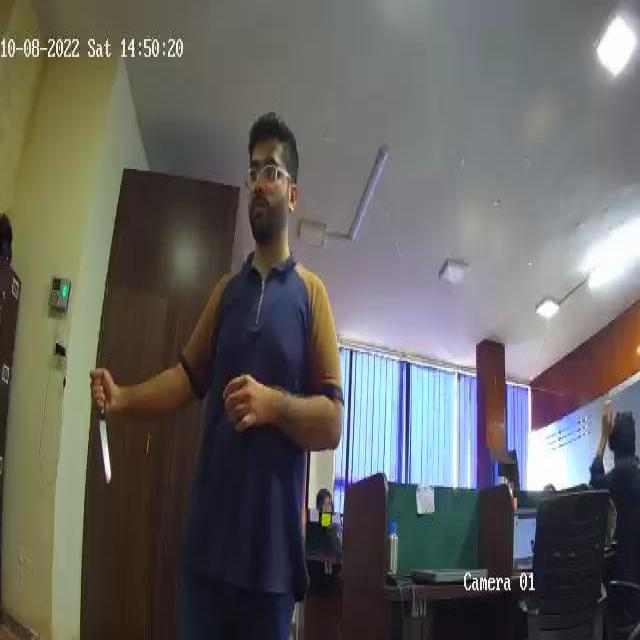Knife: (89, 375, 114, 485)
